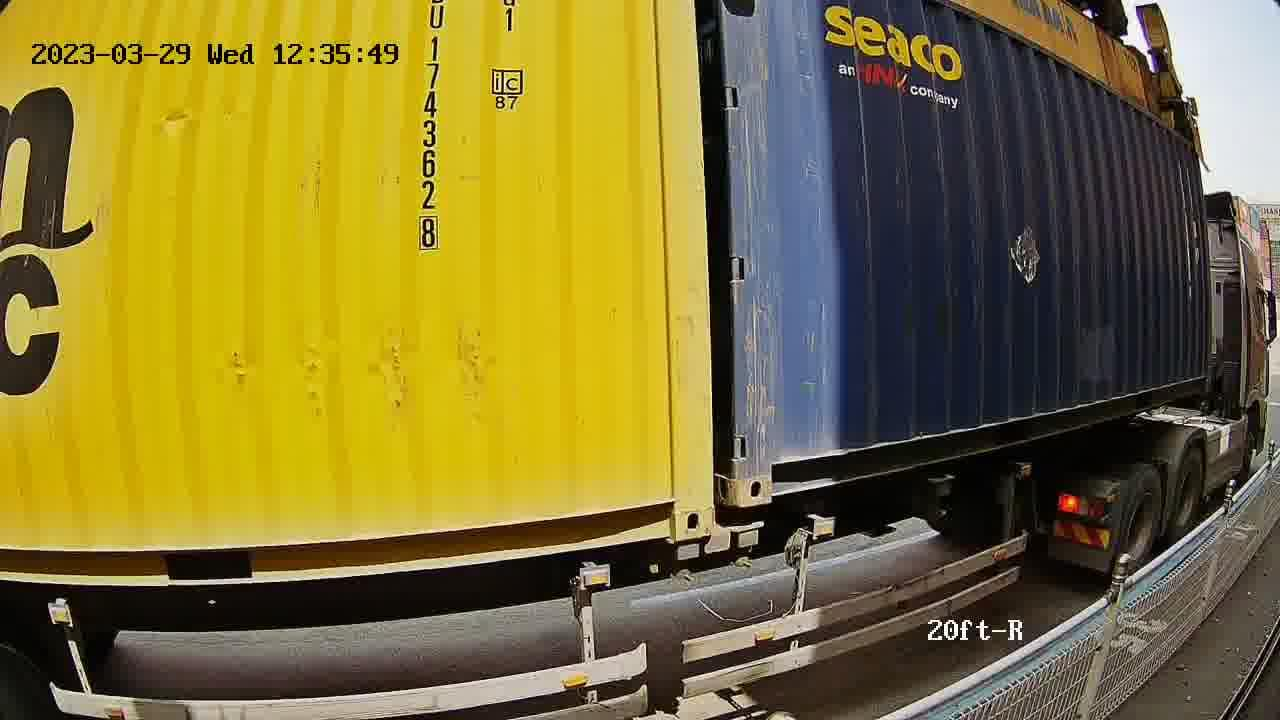Cone: (726, 514, 764, 569), (666, 540, 707, 583)
Hole_L: (735, 430, 802, 507)
Hole_R: (634, 471, 714, 541)
Tire: (1117, 467, 1162, 574), (1167, 448, 1205, 543)
